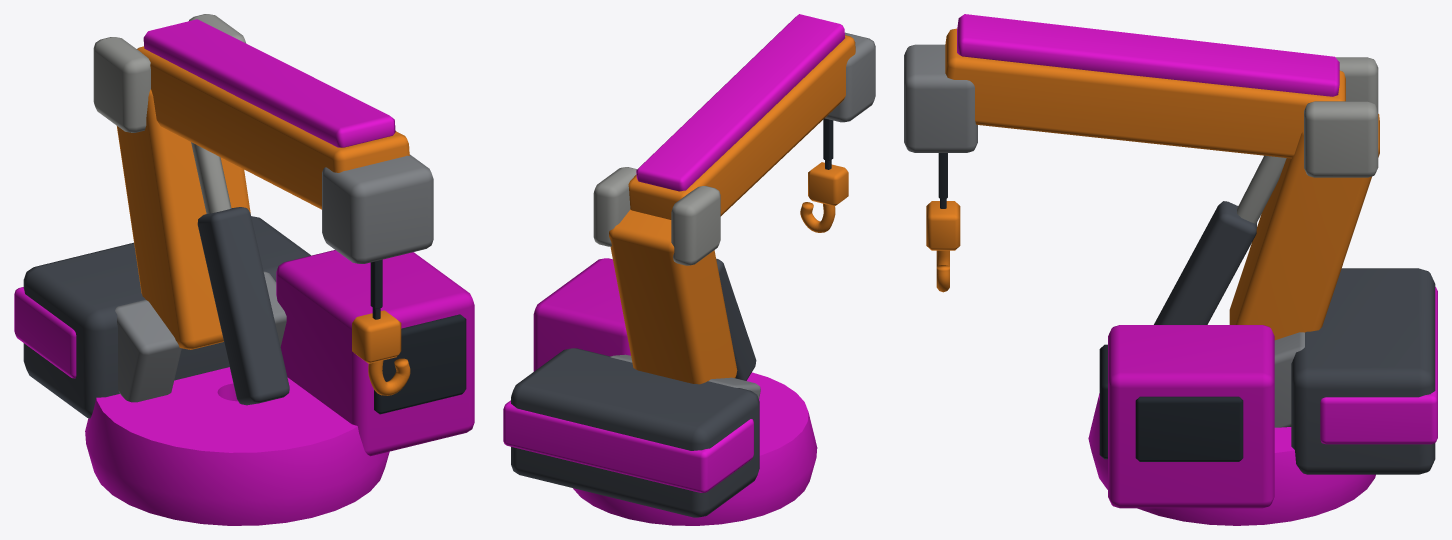
Rendered from crane-arm.glb.
The picture shows the model from 3 angles, left to right: view 1: azimuth 30°, elevation 25°; view 2: azimuth 150°, elevation 25°; view 3: azimuth 270°, elevation 25°; orthographic projection. The views are drawn at different scales.
Parts seen in each view (by area): view 1: Assembly, CableAndHook; view 2: Assembly, CableAndHook; view 3: Assembly, CableAndHook.
Boxes of the visible parts, left/top/right/bottom form: Assembly: left=14, top=14, right=474, bottom=525; CableAndHook: left=352, top=308, right=410, bottom=395; Assembly: left=503, top=14, right=875, bottom=525; CableAndHook: left=800, top=160, right=848, bottom=232; Assembly: left=904, top=14, right=1437, bottom=525; CableAndHook: left=926, top=198, right=960, bottom=292.
Size of the model in its own units: 1.61 by 2.21 by 2.47.
